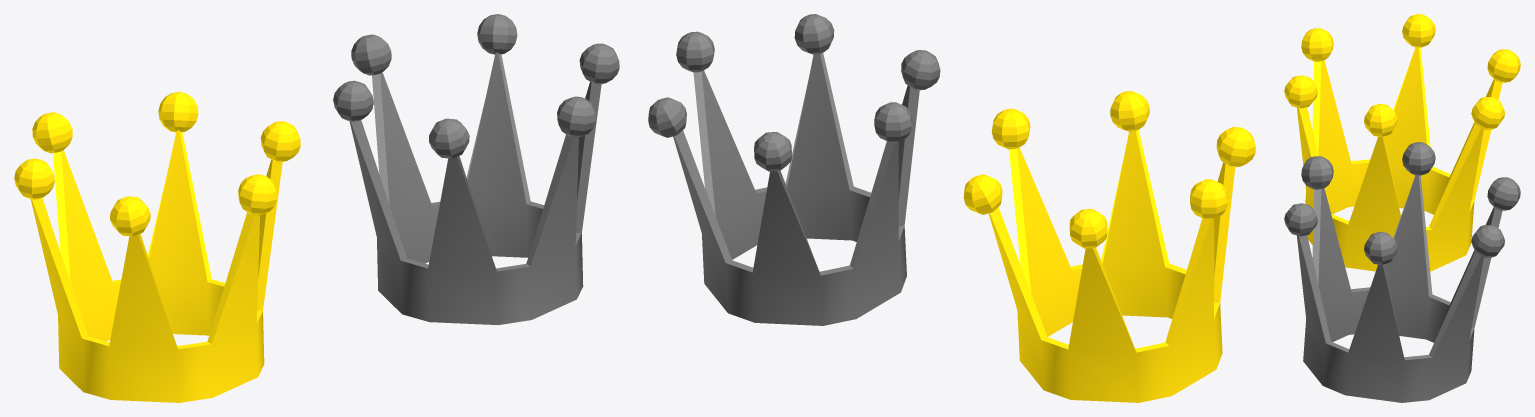
Rendered from Crown.fbx.
3 renders of one model, left to right at view 1: azimuth 30°, elevation 25°; view 2: azimuth 150°, elevation 25°; view 3: azimuth 270°, elevation 25°, orthographic. The views are drawn at different scales.
Parts seen in each view (by area): view 1: crown1, crown2; view 2: crown1, crown2; view 3: crown2, crown1.
Boxes of the visible parts, x1=… form: crown1: x1=14, y1=92, x2=300, y2=402; crown2: x1=333, y1=14, x2=619, y2=325; crown1: x1=963, y1=91, x2=1255, y2=402; crown2: x1=648, y1=14, x2=940, y2=325; crown2: x1=1284, y1=142, x2=1520, y2=402; crown1: x1=1284, y1=14, x2=1520, y2=271.
Size of the model in its own units: 19.42 by 7.21 by 8.38.
